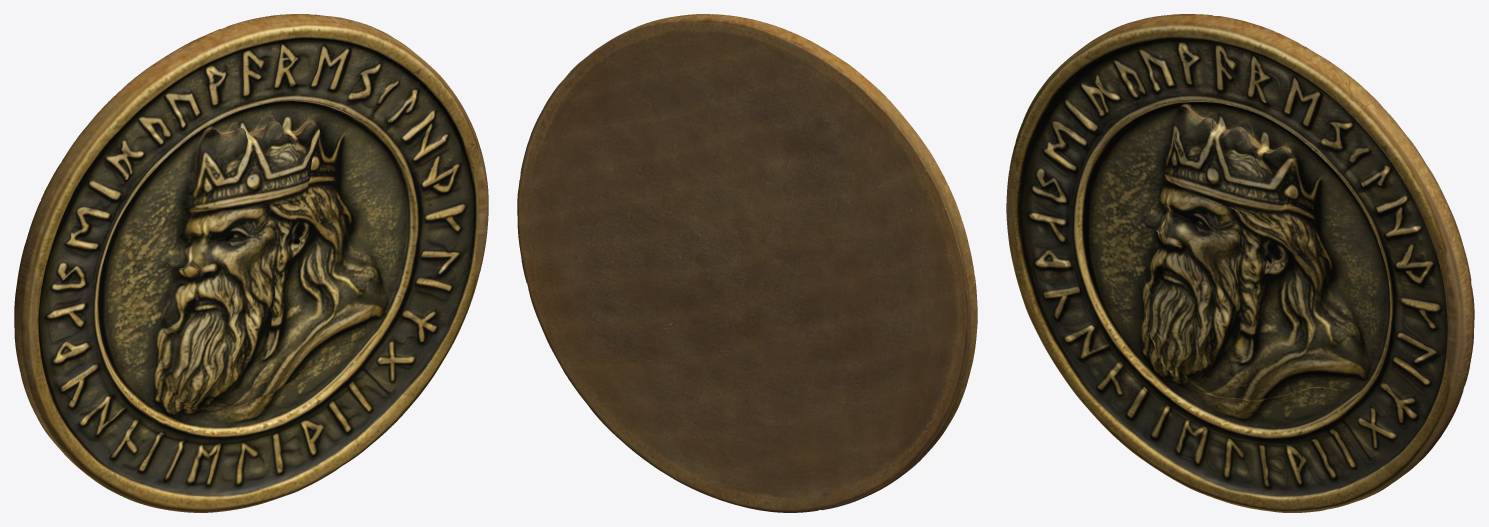
The model's file is king_coin.glb.
The picture shows the model from 3 angles, left to right: view 1: azimuth 30°, elevation 25°; view 2: azimuth 150°, elevation 25°; view 3: azimuth 330°, elevation 25°; orthographic projection.
Parts seen in each view (by area): view 1: Dwarven King coin; view 2: Dwarven King coin; view 3: Dwarven King coin.
Part boxes in pixels (x1,y1,x2,y2): Dwarven King coin: (14,14,488,512); Dwarven King coin: (517,14,977,512); Dwarven King coin: (1006,14,1474,512).
Size of the model in its own units: 2 by 2 by 0.1763.
Materials: 1 (1 with a texture image).
